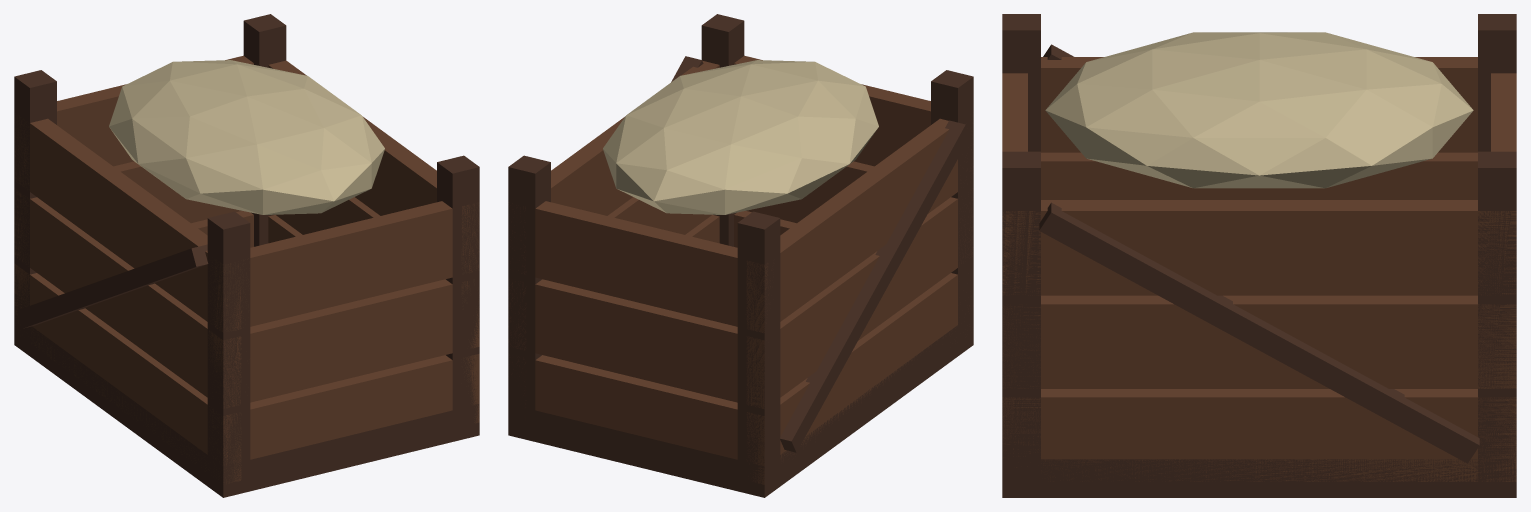
Rendered from Bin__Grain.fbx.
The picture shows the model from 3 angles, left to right: view 1: azimuth 30°, elevation 25°; view 2: azimuth 150°, elevation 25°; view 3: azimuth 270°, elevation 25°; orthographic projection. The views are drawn at different scales.
Visible parts, largest first — view 1: Bin__Grain; view 2: Bin__Grain; view 3: Bin__Grain.
Part boxes in pixels (x1,y1,x2,y2): Bin__Grain: (14,14,479,497); Bin__Grain: (508,14,973,497); Bin__Grain: (1002,14,1516,497).
Size of the model in its own units: 92.9 by 93 by 120.
Materials: 1 (1 with a texture image).
